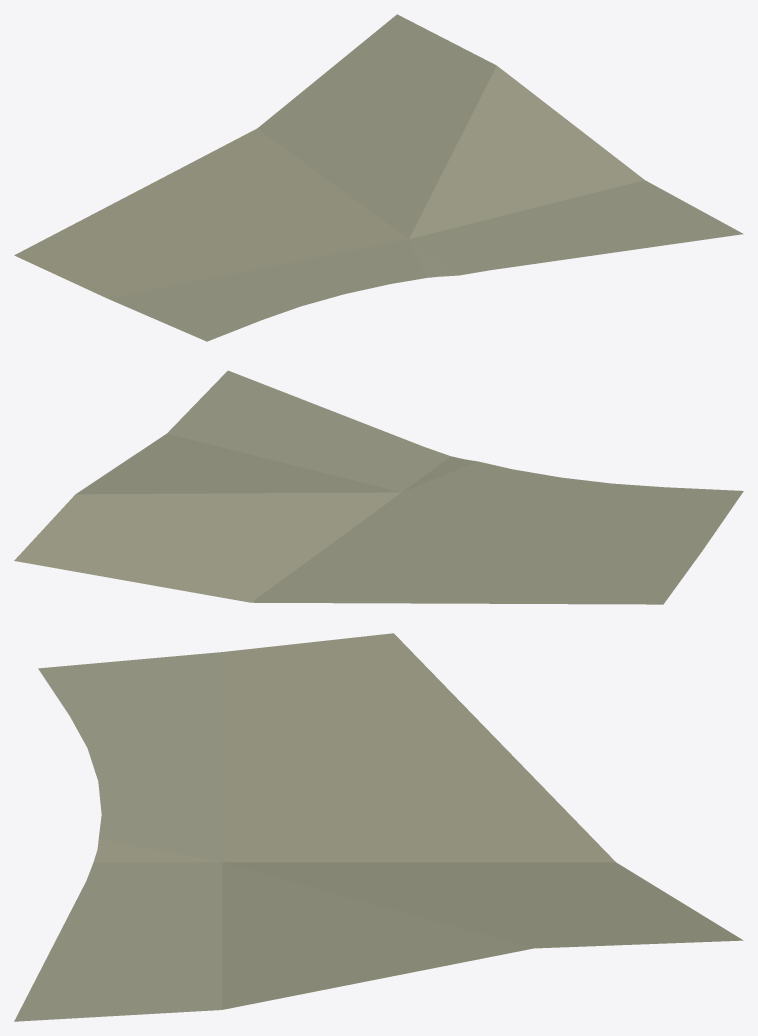
The model's file is farm_-9_12_soil.glb.
3 renders of one model, top to bottom at view 1: azimuth 30°, elevation 25°; view 2: azimuth 150°, elevation 25°; view 3: azimuth 270°, elevation 25°, orthographic. The views are drawn at different scales.
Visible parts, largest first — view 1: geometry_0; view 2: geometry_0; view 3: geometry_0.
Boxes of the visible parts, x1,y1,x2,y2 form: geometry_0: [14, 14, 743, 341]; geometry_0: [14, 370, 743, 604]; geometry_0: [14, 633, 743, 1021].
Size of the model in its own units: 89.86 by 5.18 by 74.89.
